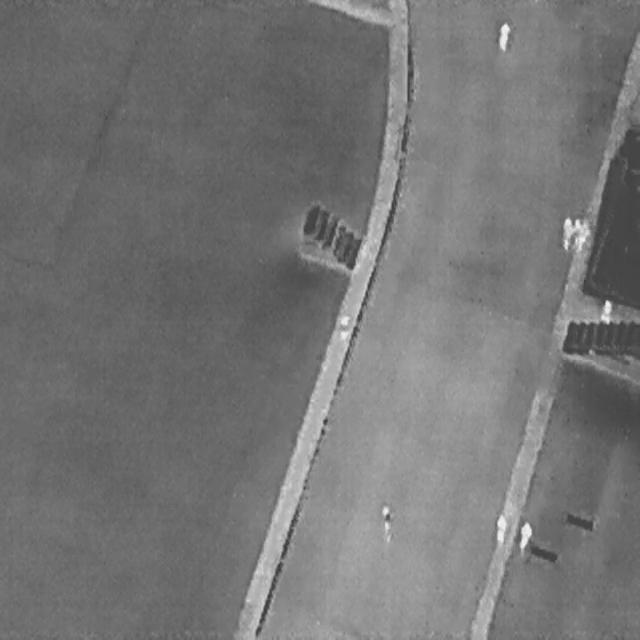Person: (514, 516, 535, 554), (560, 215, 573, 251), (336, 315, 352, 344), (600, 294, 614, 324), (494, 511, 506, 544), (498, 18, 509, 52), (380, 501, 391, 535), (571, 219, 582, 251), (580, 216, 591, 246)
